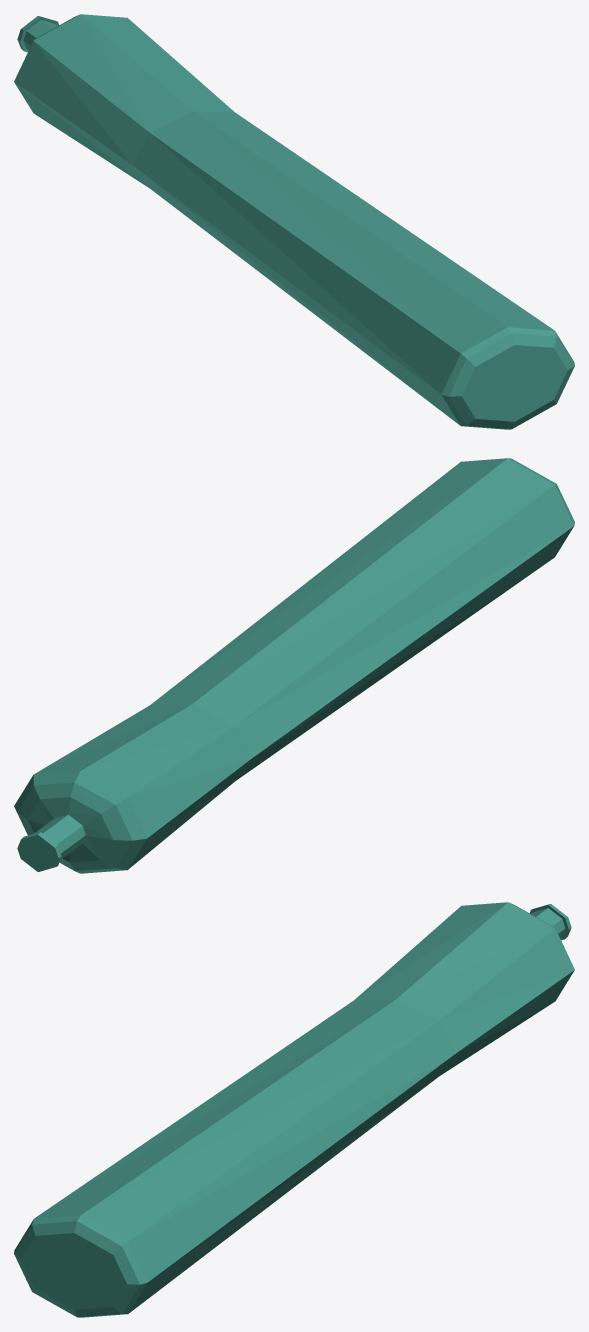
File: wip_waterbag.glb
The picture shows the model from 3 angles, top to bottom: view 1: azimuth 30°, elevation 25°; view 2: azimuth 150°, elevation 25°; view 3: azimuth 330°, elevation 25°; orthographic projection.
Visible parts, largest first — view 1: product-abee13da-4dfb-40fa-b67d-a0a076fa1e8f-body; view 2: product-abee13da-4dfb-40fa-b67d-a0a076fa1e8f-body; view 3: product-abee13da-4dfb-40fa-b67d-a0a076fa1e8f-body.
Part boxes in pixels (x1,y1,x2,y2): product-abee13da-4dfb-40fa-b67d-a0a076fa1e8f-body: (14,14,574,429); product-abee13da-4dfb-40fa-b67d-a0a076fa1e8f-body: (14,458,574,873); product-abee13da-4dfb-40fa-b67d-a0a076fa1e8f-body: (14,902,574,1317).
Size of the model in its own units: 0.03 by 0.0221 by 0.1862.
